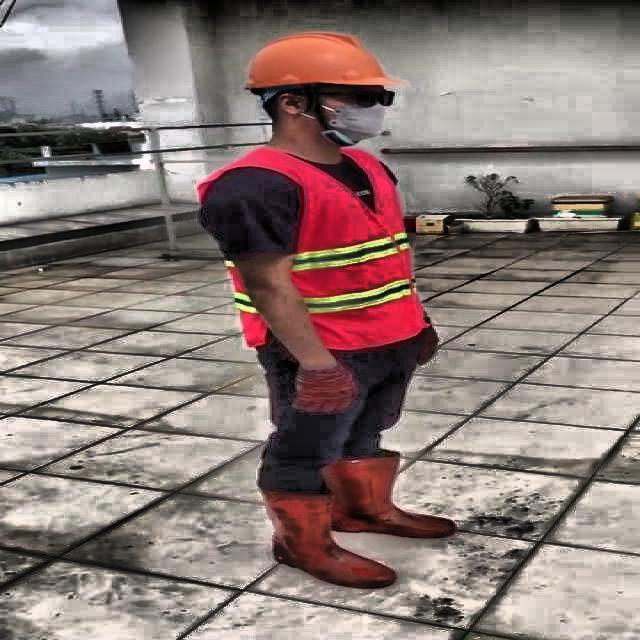safety_helmet: (241, 31, 399, 94)
safety_jacket: (191, 143, 420, 348)
